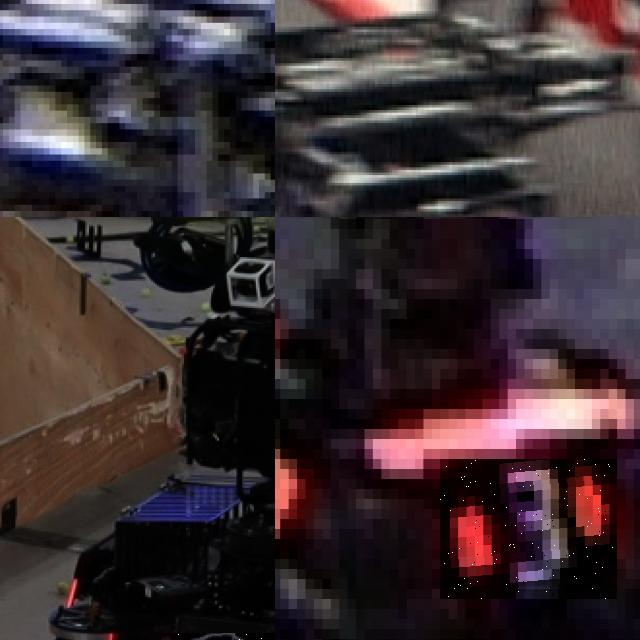R3: (440, 459, 617, 599), (275, 399, 297, 539)
